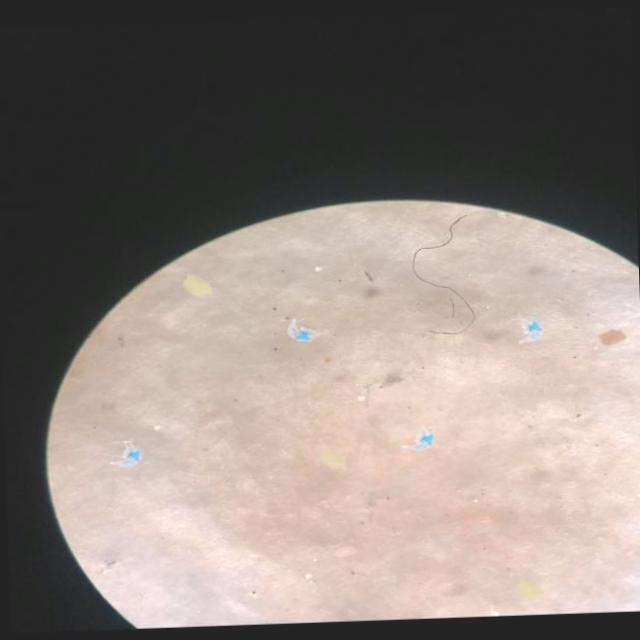fiber: (411, 214, 475, 333)
film: (110, 441, 141, 466), (287, 320, 313, 339), (412, 432, 431, 448)
fragment: (516, 580, 542, 600), (183, 276, 210, 295), (599, 329, 625, 346), (320, 449, 343, 467)
pellet: (358, 395, 364, 401), (314, 266, 320, 271), (154, 425, 159, 429)
